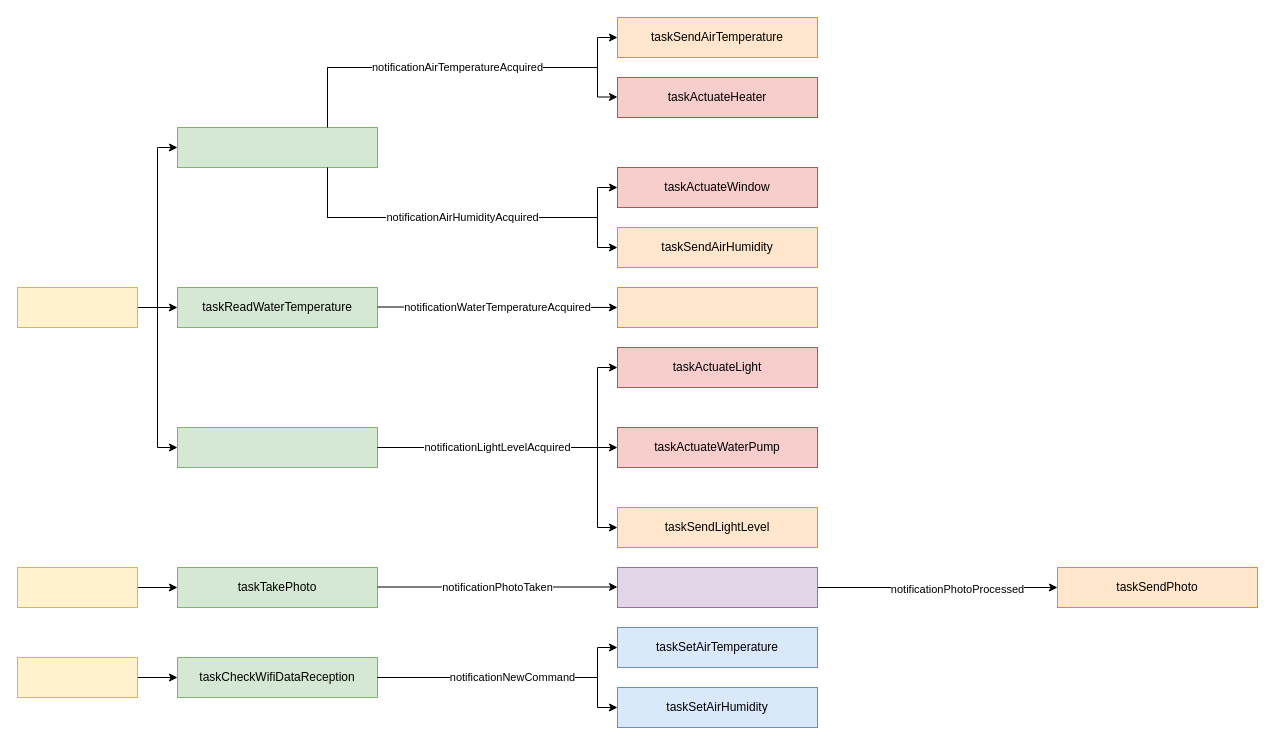
This 1275x745 diagram has some shape labels left out. Each missing label, with the box of its shape:
ISR-TAKE-PHOTO: (16, 566, 138, 608)
ISR-TAKE-SAMPLES: (16, 286, 138, 328)
ISR-WIFI: (16, 656, 138, 698)
TaskProcessImage: (616, 566, 818, 608)
taskReadAirTemperatureHumidity: (176, 126, 378, 168)
taskReadLight: (176, 426, 378, 468)
taskSendWaterTemperature: (616, 286, 818, 328)
